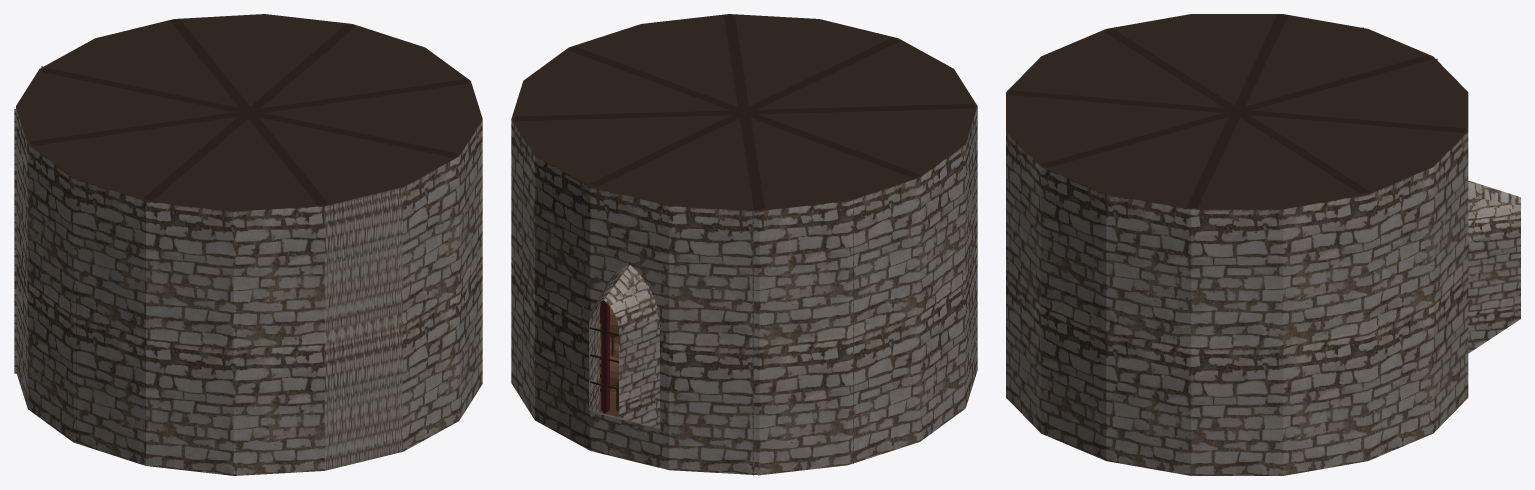
Rendered from tower.glb.
The picture shows the model from 3 angles, left to right: view 1: azimuth 30°, elevation 25°; view 2: azimuth 150°, elevation 25°; view 3: azimuth 270°, elevation 25°; orthographic projection.
Parts seen in each view (by area): view 1: Room; view 2: Room; view 3: Room.
Part boxes in pixels (box(x1,y1,x2,y2)): Room: box(14, 14, 482, 475); Room: box(511, 14, 977, 475); Room: box(1006, 14, 1520, 475).
Bounding box in the file's own units: 6.6 × 4.21 × 7.35.
Materials: 100 (32 with a texture image).
